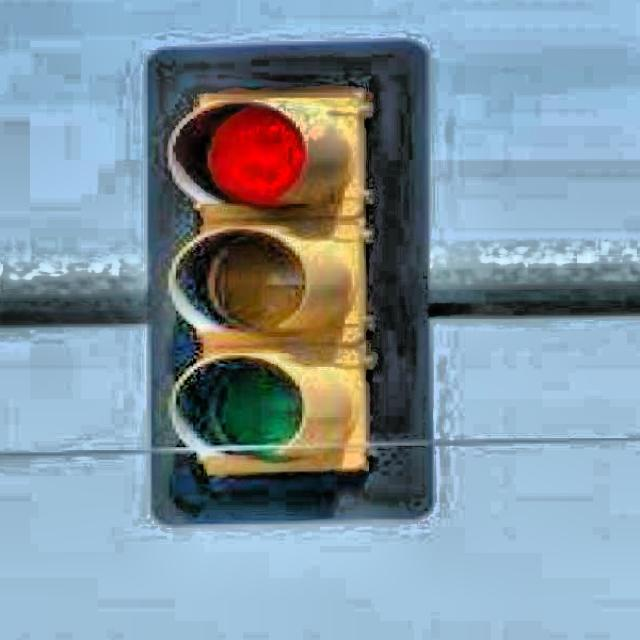red: (184, 95, 357, 468)
